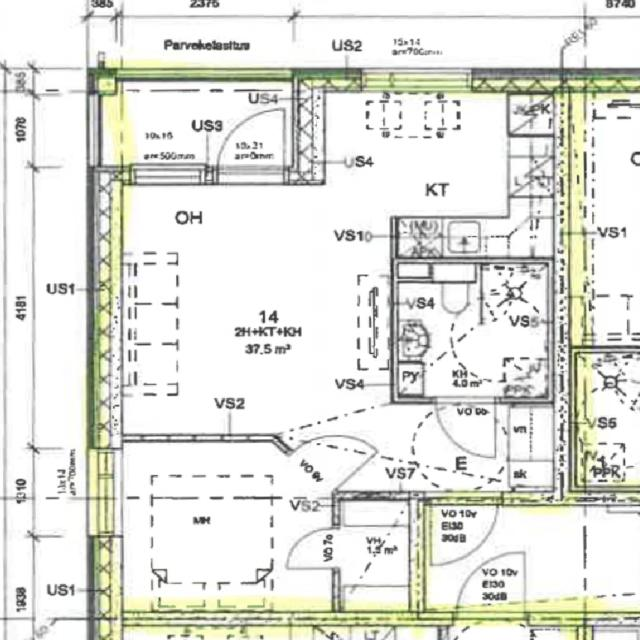door: (288, 414, 372, 491), (429, 489, 498, 568), (216, 107, 284, 185), (435, 396, 494, 456), (286, 527, 340, 569)
